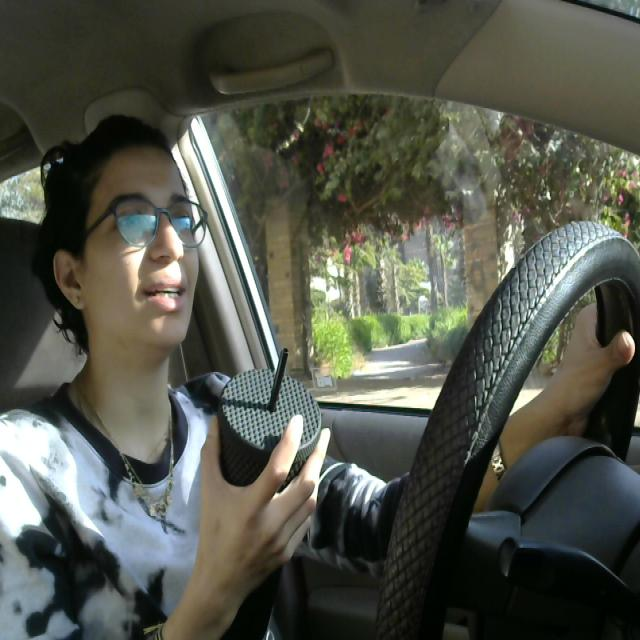drinking: (216, 333, 334, 640)
